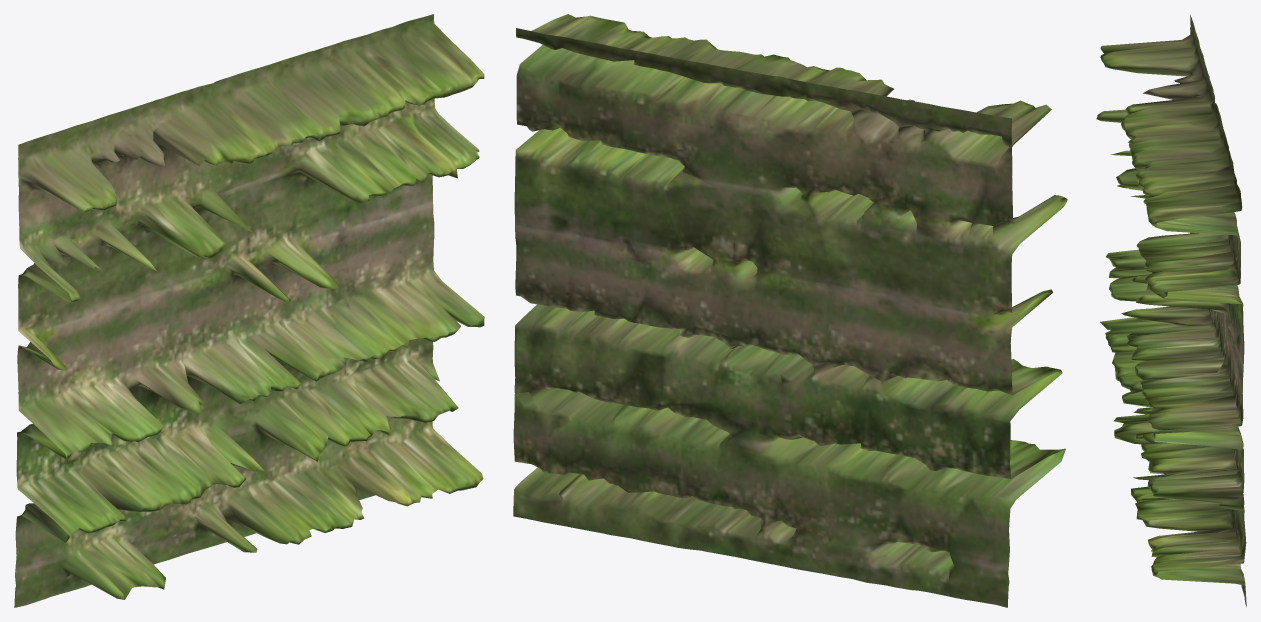
Rendered from map_110_60.obj.
3 renders of one model, left to right at view 1: azimuth 30°, elevation 25°; view 2: azimuth 150°, elevation 25°; view 3: azimuth 270°, elevation 25°, orthographic. The views are drawn at different scales.
Parts seen in each view (by area): view 1: map_110_60.obj; view 2: map_110_60.obj; view 3: map_110_60.obj.
Boxes of the visible parts, bbox=[...] form: map_110_60.obj: bbox=[14, 14, 484, 607]; map_110_60.obj: bbox=[513, 14, 1067, 607]; map_110_60.obj: bbox=[1096, 14, 1246, 606].
Size of the model in its own units: 10 by 10 by 3.37.
1 material, 1 textured.
